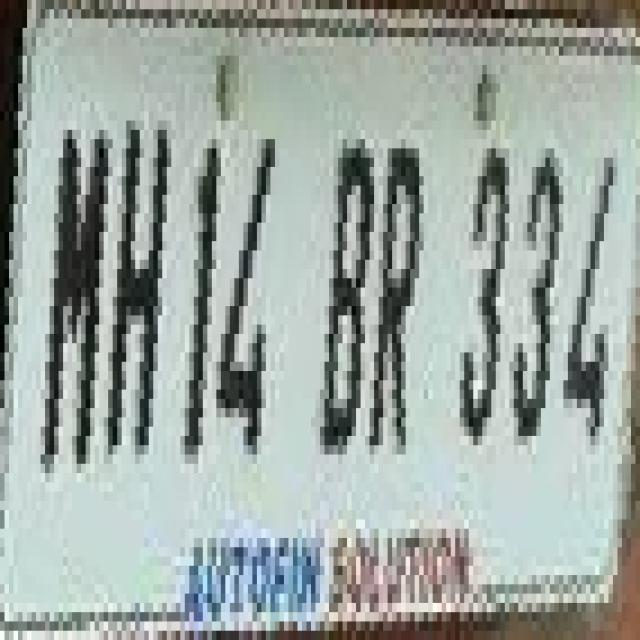license_plate: (4, 18, 640, 584)
